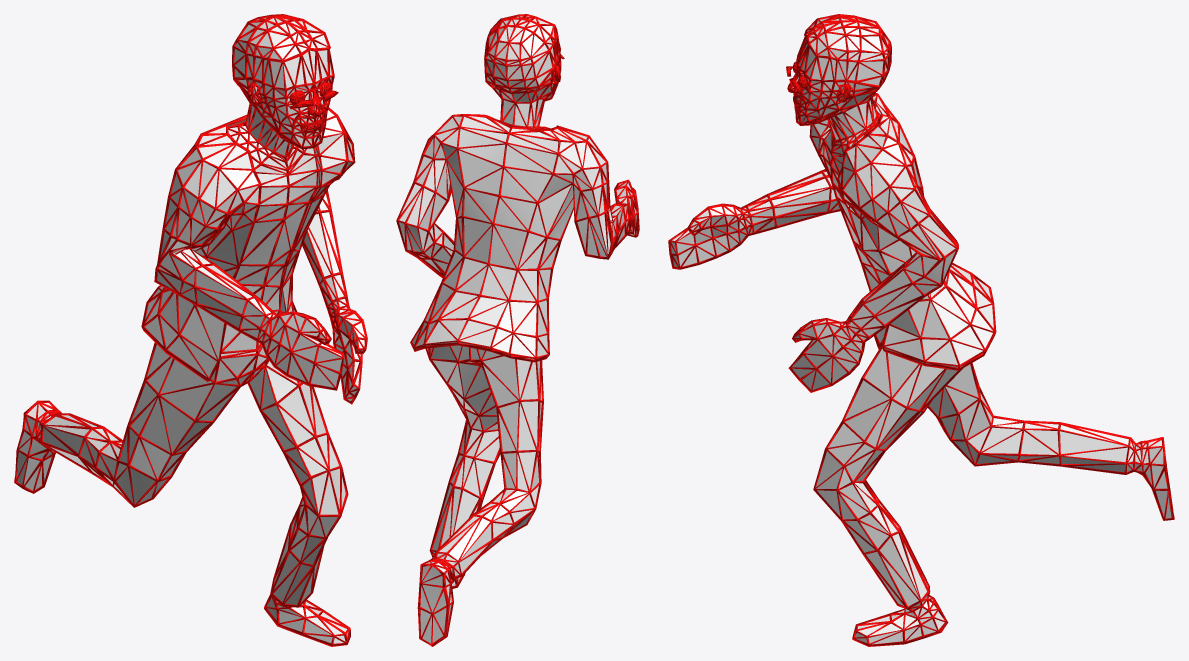
File: elegantRun_000002.obj
3 renders of one model, left to right at view 1: azimuth 30°, elevation 25°; view 2: azimuth 150°, elevation 25°; view 3: azimuth 270°, elevation 25°, orthographic. The views are drawn at different scales.
Visible parts, largest first — view 1: BaseHuman_Cylinder.002; view 2: BaseHuman_Cylinder.002; view 3: BaseHuman_Cylinder.002.
Part boxes in pixels (box(x1,y1,x2,y2)): BaseHuman_Cylinder.002: box(14, 14, 367, 646); BaseHuman_Cylinder.002: box(396, 14, 639, 646); BaseHuman_Cylinder.002: box(668, 14, 1174, 646).
Size of the model in its own units: 1.49 by 4.48 by 3.48.
